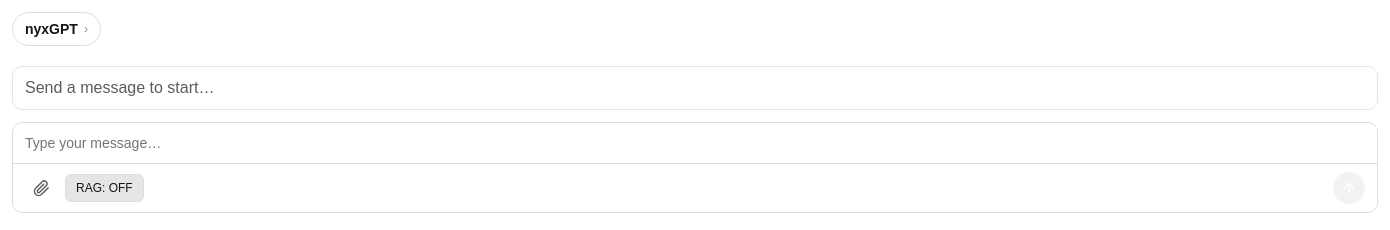
model dropdown and upload menu interactions › selects a model from the dropdown and closes it
Click the button "nyxGPT ›": (56, 29) [12,12,101,46]
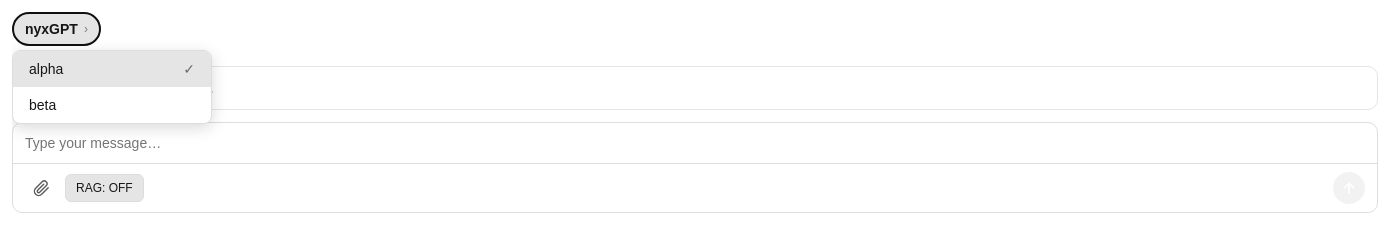
Expected: the button "beta" is shown
Click the button "beta": (112, 105) [13,87,211,123]
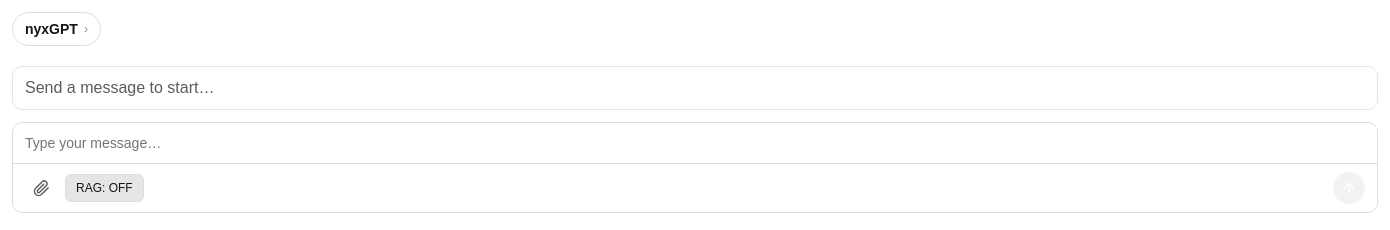
Expected: the button "alpha" is gone
